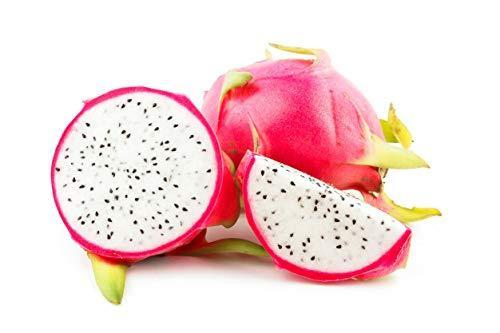dragon-fruit: (48, 83, 223, 263), (203, 56, 386, 200), (239, 147, 412, 284)
